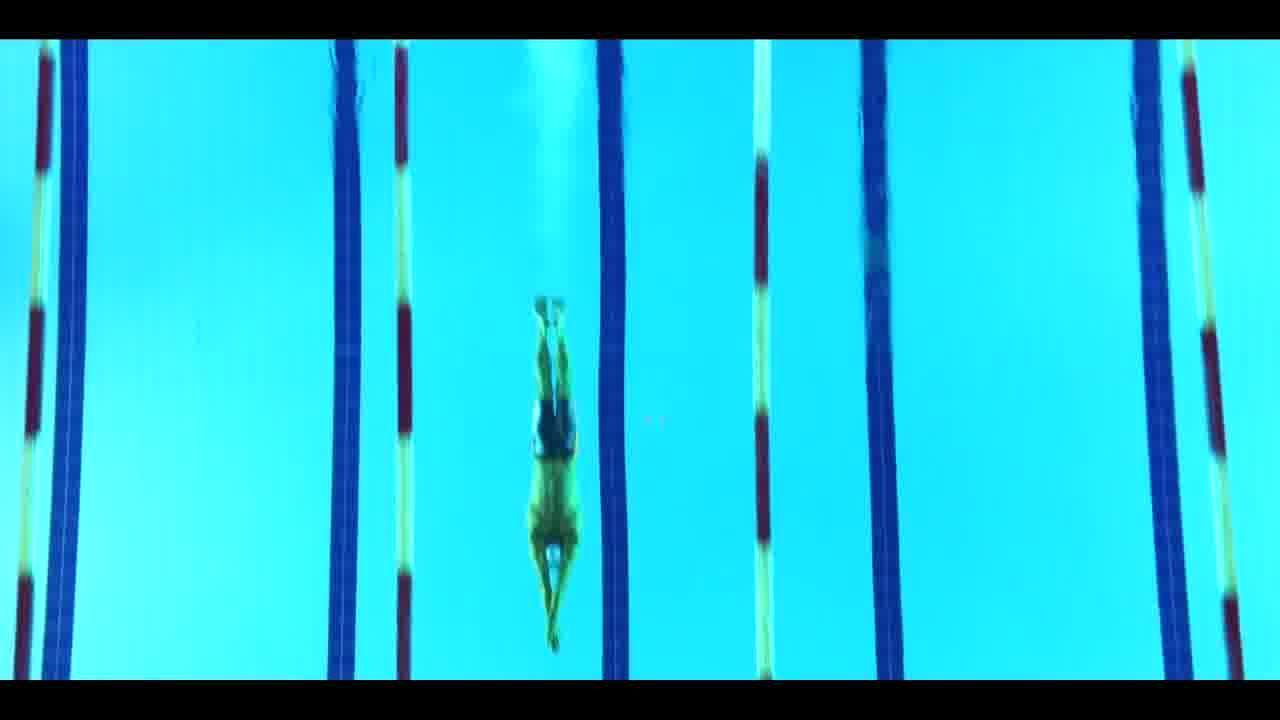swimmer: (519, 295, 592, 665)
